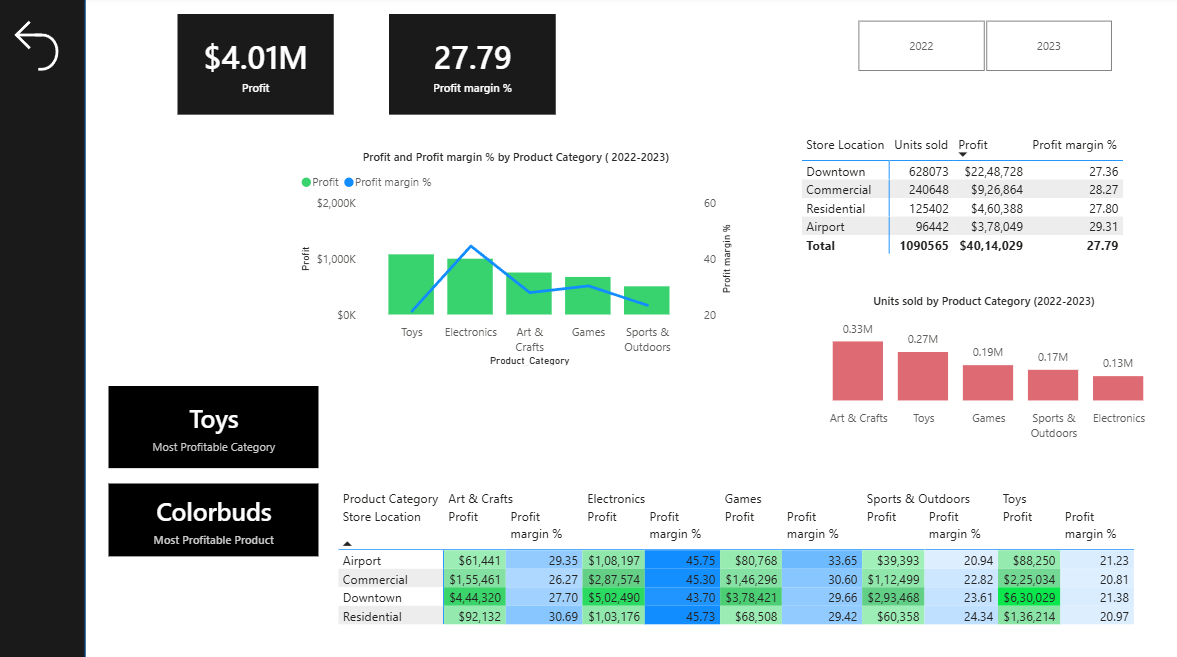

This screenshot's page, from the dashboard's own definition file:
{"tool":"powerbi","page":{"name":"Category Profitability","canvas":[1280,720],"ordinal":0},"visuals":[{"type":"pivotTable","fields":{"Values":["measures Table Dax.Profit","measures Table Dax.Profit margin %"],"Rows":["stores.Store_Location"],"Columns":["products.Product_Category"]},"box":[365,526.7,900,186.7],"z":0},{"type":"clusteredColumnChart","title":"Units sold by Product Category (2022-2023)","fields":{"Category":["products.Product_Category"],"Y":["measures Table Dax.Units sold"]},"box":[860,320,413.3,166.7],"z":1000},{"type":"card","fields":{"Values":["Min(products.Product_Category)"]},"box":[121.7,421.7,226.7,88.3],"z":2000},{"type":"card","fields":{"Values":["Min(products.Product_Name)"]},"box":[121.7,526.7,226.7,78.3],"z":3000},{"type":"pivotTable","fields":{"Values":["measures Table Dax.Units sold","measures Table Dax.Profit","measures Table Dax.Profit margin %"],"Rows":["stores.Store_Location"]},"box":[865,143.3,403.3,141.7],"z":4000},{"type":"slicer","fields":{"Values":["calendar.Year"]},"box":[905,20,323.3,68.3],"z":5000},{"type":"shape","box":[0,0,96.7,720],"z":6000},{"type":"card","fields":{"Values":["measures Table Dax.Profit"]},"box":[196.7,20,168.3,108.3],"z":7000},{"type":"card","fields":{"Values":["measures Table Dax.Profit margin %"]},"box":[425,20,180,108.3],"z":8000},{"type":"lineClusteredColumnComboChart","title":"Profit and Profit margin % by Product Category ( 2022-2023)","fields":{"Category":["products.Product_Category"],"Y":["measures Table Dax.Profit"],"Y2":["measures Table Dax.Profit margin %"]},"box":[323.3,165,475,238.3],"z":9000},{"type":"actionButton","box":[10,20,75,68.3],"z":10000}]}

Visuals, with their boxes in screenshot pixels (x1, y1, x2, y2), scaled from the page's 1280x720 canvas onto the 1177x657 screenshot:
pivotTable - measures Table Dax.Profit x measures Table Dax.Profit margin %: box=[336, 481, 1163, 651]
"Units sold by Product Category (2022-2023)" clusteredColumnChart: box=[791, 292, 1171, 444]
card - Min(products.Product_Category): box=[112, 385, 320, 465]
card - Min(products.Product_Name): box=[112, 481, 320, 552]
pivotTable - measures Table Dax.Units sold x measures Table Dax.Profit: box=[795, 131, 1166, 260]
slicer - calendar.Year: box=[832, 18, 1129, 81]
shape: box=[0, 0, 89, 656]
card - measures Table Dax.Profit: box=[181, 18, 336, 117]
card - measures Table Dax.Profit margin %: box=[391, 18, 556, 117]
"Profit and Profit margin % by Product Category ( 2022-2023)" lineClusteredColumnComboChart: box=[297, 151, 734, 368]
actionButton: box=[9, 18, 78, 81]
